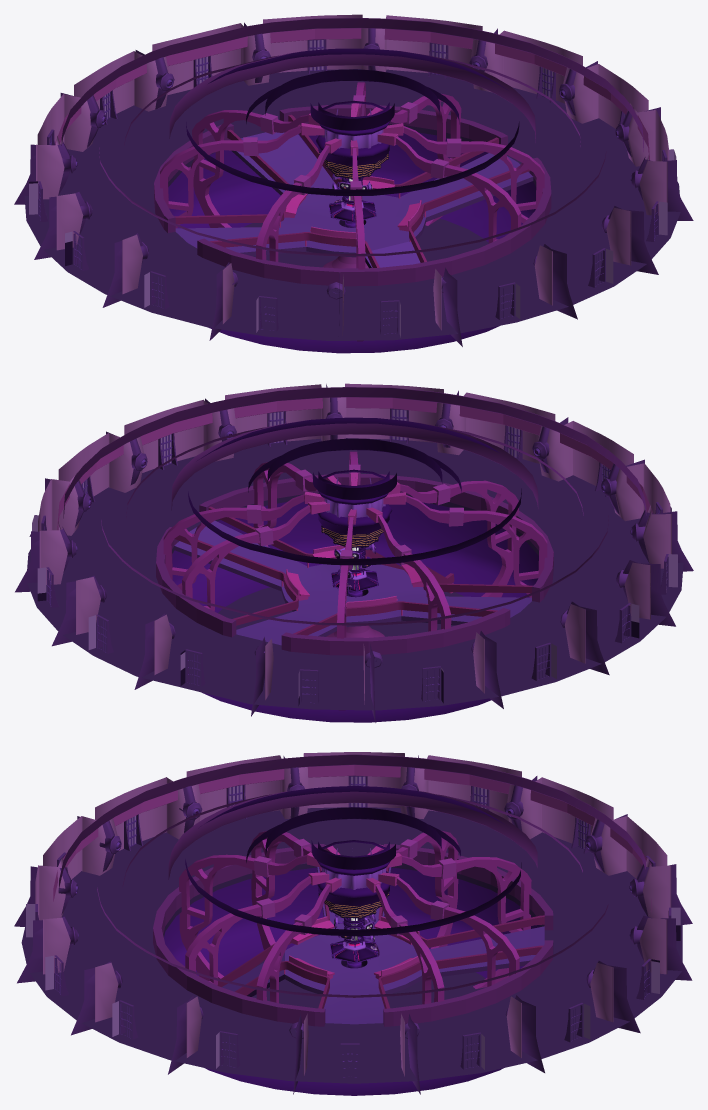
File: room_.glb
The picture shows the model from 3 angles, top to bottom: view 1: azimuth 30°, elevation 25°; view 2: azimuth 150°, elevation 25°; view 3: azimuth 270°, elevation 25°; orthographic projection.
Visible parts, largest first — view 1: a.018, a.021, a.017, a.015, a.022, a.020, a.016, a.019, a.023, a.011, a.014, a.026; view 2: a.018, a.021, a.017, a.015, a.020, a.022, a.016, a.019, a.023, a.011, a.014, a.026; view 3: a.018, a.021, a.017, a.015, a.020, a.022, a.016, a.023, a.019, a.011, a.014, a.026.
Part boxes in pixels (x1,y1,x2,y2): a.018: [24, 69, 680, 340]; a.021: [14, 14, 693, 350]; a.017: [61, 18, 643, 256]; a.015: [160, 82, 544, 341]; a.022: [175, 132, 533, 268]; a.020: [168, 132, 536, 353]; a.016: [29, 39, 676, 337]; a.019: [175, 114, 530, 267]; a.023: [55, 28, 649, 160]; a.011: [316, 100, 390, 165]; a.014: [322, 109, 383, 227]; a.026: [329, 199, 376, 222]; a.018: [27, 438, 683, 710]; a.021: [15, 383, 693, 722]; a.017: [63, 387, 646, 625]; a.015: [163, 451, 547, 710]; a.020: [172, 501, 538, 722]; a.022: [174, 520, 531, 645]; a.016: [32, 408, 677, 705]; a.019: [174, 506, 532, 635]; a.023: [57, 397, 652, 530]; a.011: [317, 469, 392, 534]; a.014: [324, 478, 385, 597]; a.026: [331, 568, 378, 591]; a.018: [21, 807, 682, 1083]; a.021: [14, 752, 692, 1094]; a.017: [59, 754, 645, 997]; a.015: [179, 830, 531, 1004]; a.020: [164, 867, 540, 1095]; a.022: [222, 866, 544, 1024]; a.016: [26, 775, 680, 1077]; a.023: [53, 765, 651, 912]; a.019: [217, 867, 544, 1008]; a.011: [317, 840, 390, 906]; a.014: [321, 848, 386, 968]; a.026: [330, 939, 378, 962].
Size of the model in its own units: 190 by 54.76 by 190.
Materials: 3 (1 with a texture image).
